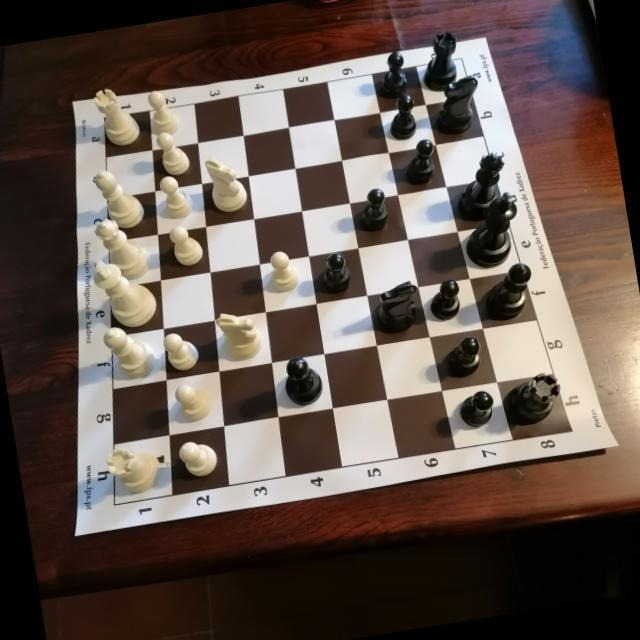black-bishop: (482, 262, 538, 322), (282, 353, 326, 408)
black-king: (458, 190, 525, 271)
black-knight: (434, 75, 486, 137), (372, 279, 423, 335)
black-pawn: (317, 249, 354, 298), (376, 50, 411, 100), (459, 389, 499, 431), (446, 335, 485, 377), (428, 278, 464, 322), (357, 185, 391, 231), (387, 94, 419, 141), (407, 137, 439, 184)
black-queen: (455, 150, 513, 221)
black-rook: (508, 370, 566, 425), (417, 30, 465, 93)
white-bishop: (92, 165, 148, 233), (103, 320, 161, 383)
white-king: (91, 254, 161, 333)
white-knight: (213, 307, 266, 365), (203, 153, 251, 217)
white-pawn: (177, 436, 222, 479), (145, 86, 182, 138), (159, 172, 197, 222), (175, 380, 217, 424), (166, 223, 206, 269), (155, 130, 193, 178), (265, 248, 302, 296), (162, 330, 202, 374)
white-queen: (92, 214, 155, 286)
white-rook: (91, 82, 145, 151), (103, 441, 166, 500)
